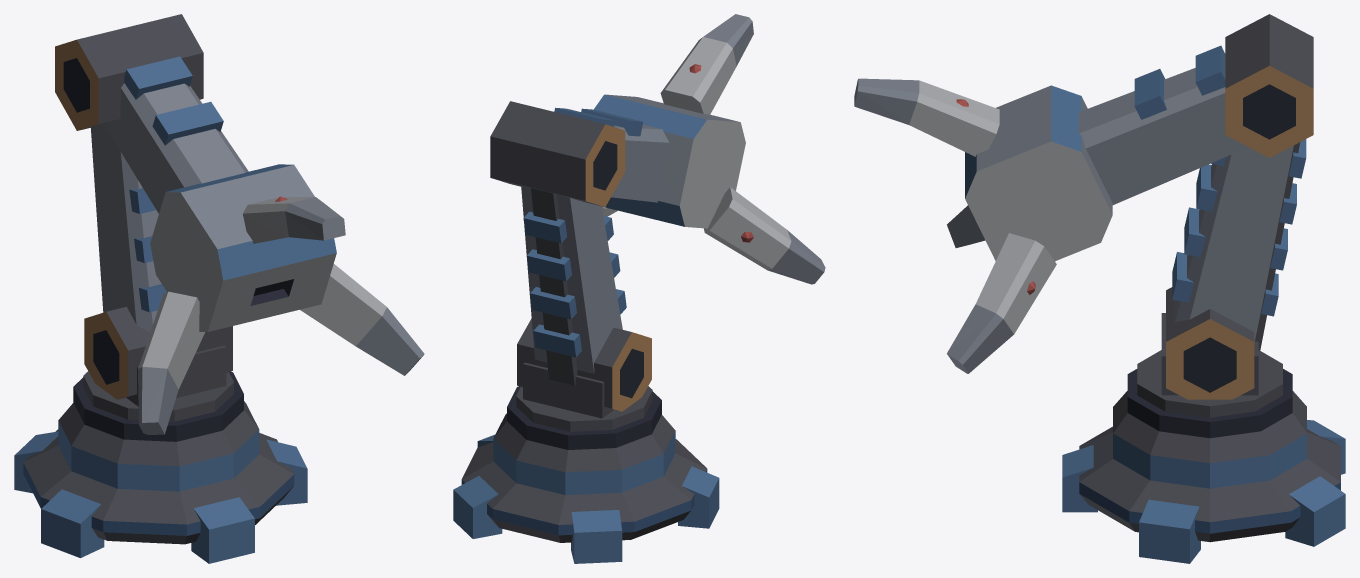
The model's file is docking-clamp-b749c6.glb.
3 renders of one model, left to right at view 1: azimuth 30°, elevation 25°; view 2: azimuth 150°, elevation 25°; view 3: azimuth 270°, elevation 25°, orthographic. The views are drawn at different scales.
Visible parts, largest first — view 1: clamp-base, clamp-head, lower-boom, swivel-turntable, clamp-finger-3, clamp-finger-2, clamp-finger-1; view 2: clamp-base, lower-boom, clamp-head, swivel-turntable, clamp-finger-3, clamp-finger-1; view 3: clamp-base, clamp-head, lower-boom, swivel-turntable, clamp-finger-2, clamp-finger-1, clamp-finger-3.
Part boxes in pixels (left/top/right/bottom): clamp-base: left=14, top=371, right=307, bottom=563; clamp-head: left=104, top=56, right=336, bottom=331; lower-boom: left=55, top=14, right=203, bottom=332; swivel-turntable: left=83, top=307, right=233, bottom=421; clamp-finger-3: left=138, top=291, right=205, bottom=434; clamp-finger-2: left=300, top=264, right=424, bottom=375; clamp-finger-1: left=243, top=196, right=345, bottom=243; clamp-base: left=453, top=386, right=719, bottom=563; lower-boom: left=490, top=101, right=626, bottom=385; clamp-head: left=554, top=94, right=745, bottom=228; swivel-turntable: left=516, top=318, right=652, bottom=431; clamp-finger-3: left=704, top=187, right=825, bottom=284; clamp-finger-1: left=660, top=14, right=753, bottom=114; clamp-base: left=1062, top=369, right=1345, bottom=563; clamp-head: left=965, top=45, right=1247, bottom=261; lower-boom: left=1172, top=14, right=1313, bottom=350; swivel-turntable: left=1137, top=287, right=1282, bottom=417; clamp-finger-2: left=947, top=233, right=1056, bottom=373; clamp-finger-1: left=854, top=78, right=999, bottom=156; clamp-finger-3: left=947, top=205, right=985, bottom=247.
Size of the model in its own units: 1.3 by 2 by 1.93.
